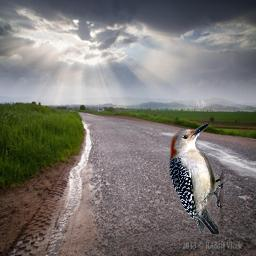Woodpecker: (169, 123, 223, 234)
